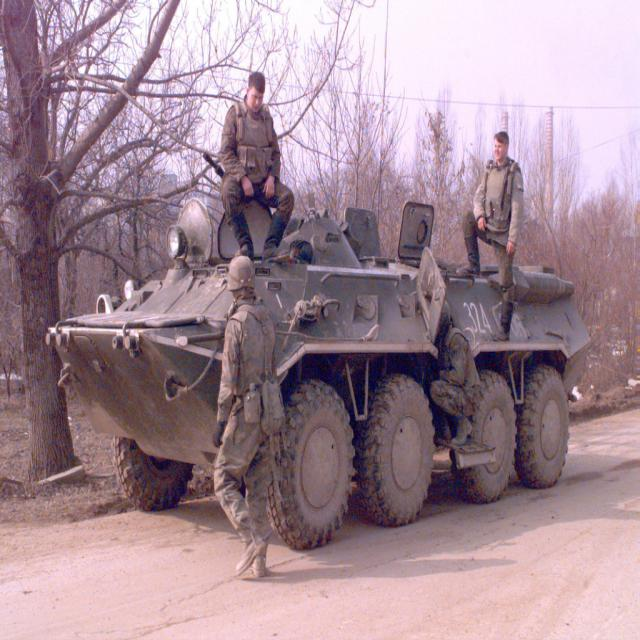tank: (46, 146, 590, 550)
